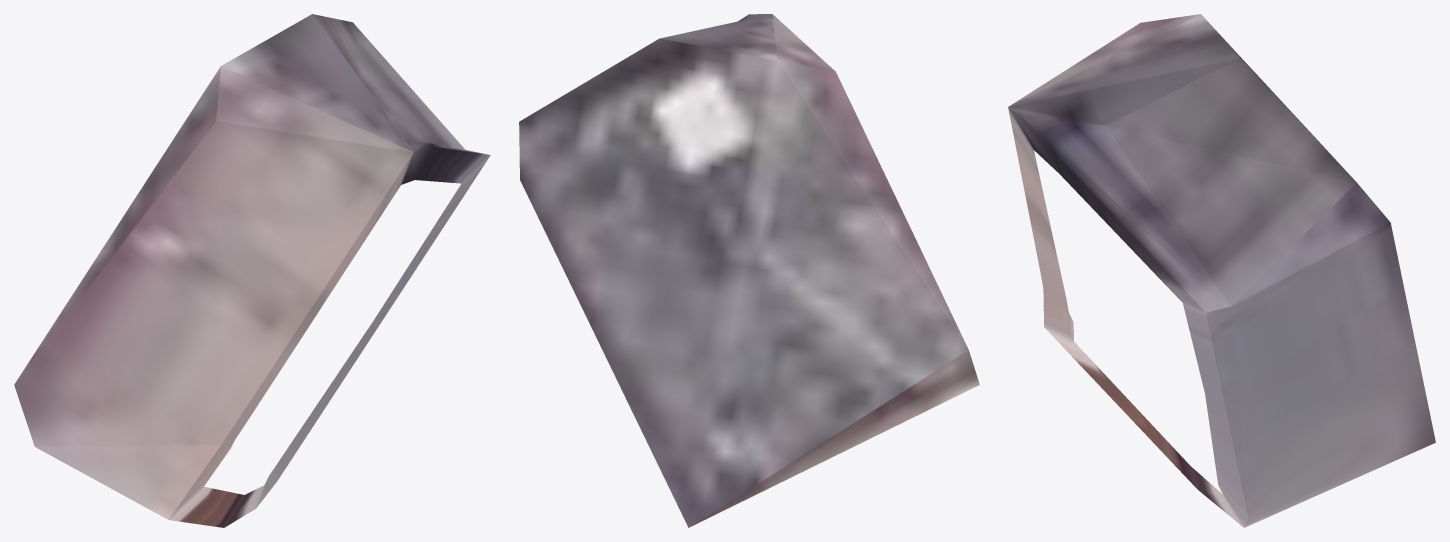
3 renders of one model, left to right at view 1: azimuth 30°, elevation 25°; view 2: azimuth 150°, elevation 25°; view 3: azimuth 270°, elevation 25°, orthographic. The views are drawn at different scales.
Bounding box in the file's own units: 6.66 × 6.4 × 4.99.
Materials: 1 (1 with a texture image).
